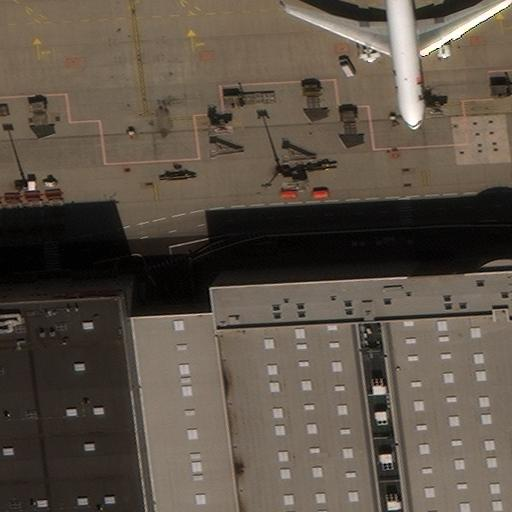Large Civil Transport: (282, 0, 511, 129)
